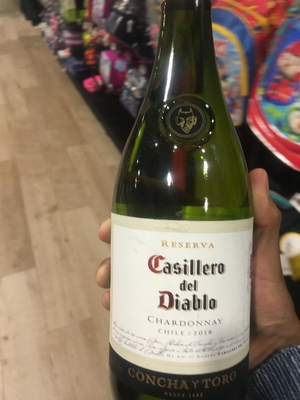casillero del diablo chardonnay: (108, 15, 260, 390)
